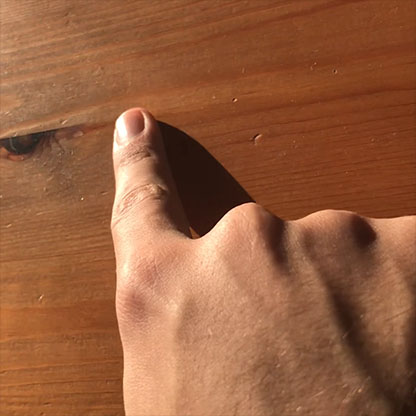fingertip: (100, 101, 162, 153)
